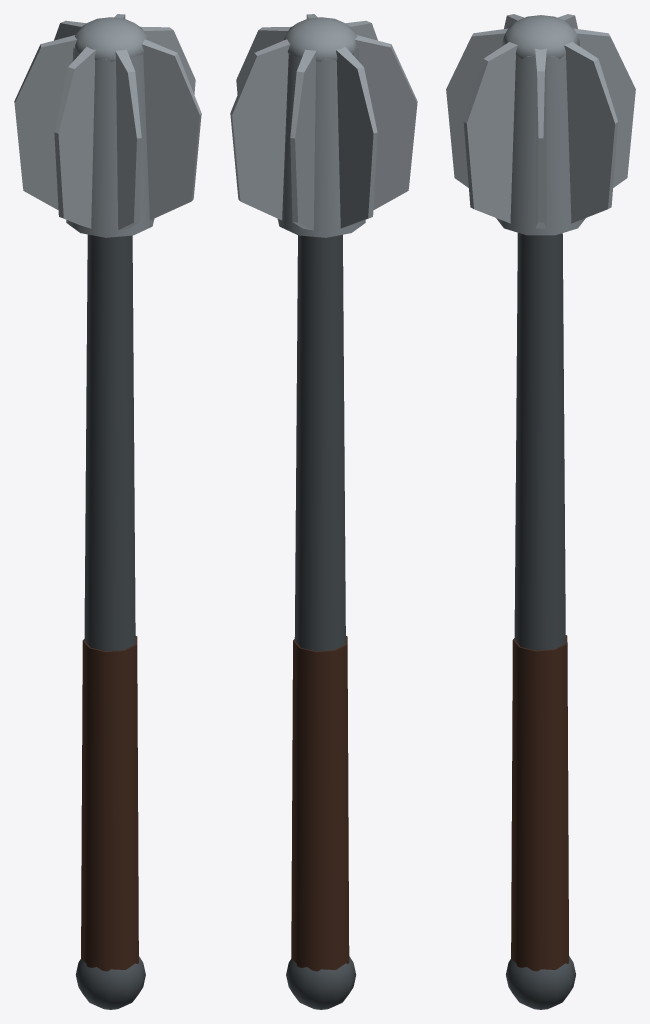
The model's file is mace.glb.
3 renders of one model, left to right at view 1: azimuth 30°, elevation 25°; view 2: azimuth 150°, elevation 25°; view 3: azimuth 270°, elevation 25°, orthographic.
Visible parts, largest first — view 1: mace-flange (×5), mace-haft, mace-grip, mace-head, mace-pommel, mace-head-cap; view 2: mace-flange (×5), mace-haft, mace-grip, mace-head, mace-pommel, mace-head-cap; view 3: mace-flange (×5), mace-haft, mace-grip, mace-head, mace-pommel, mace-head-cap.
Part boxes in pixels (bbox=[...]): mace-flange (×5): bbox=[14, 26, 201, 230]; mace-haft: bbox=[84, 234, 135, 651]; mace-grip: bbox=[81, 636, 138, 971]; mace-head: bbox=[66, 40, 154, 237]; mace-pommel: bbox=[75, 956, 145, 1009]; mace-head-cap: bbox=[74, 17, 147, 61]; mace-flange (×5): bbox=[230, 26, 417, 230]; mace-haft: bbox=[294, 234, 345, 651]; mace-grip: bbox=[291, 636, 349, 971]; mace-head: bbox=[277, 40, 365, 237]; mace-pommel: bbox=[286, 956, 356, 1009]; mace-head-cap: bbox=[284, 17, 357, 61]; mace-flange (×5): bbox=[446, 28, 635, 228]; mace-haft: bbox=[514, 233, 565, 650]; mace-grip: bbox=[511, 635, 568, 971]; mace-head: bbox=[496, 42, 585, 235]; mace-pommel: bbox=[506, 956, 575, 1009]; mace-head-cap: bbox=[502, 15, 579, 58].
Bounding box in the file's own units: 0.0818 × 0.4808 × 0.0839.
